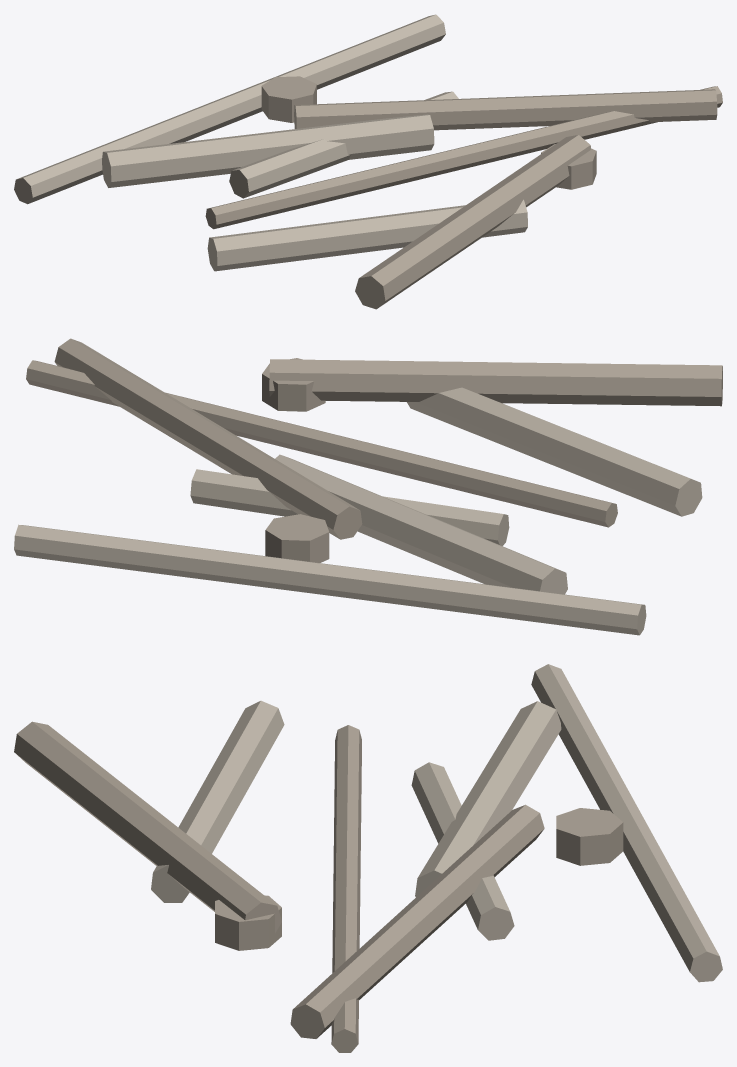
Rendered from dm_driftwood2.glb.
3 views of the same model, one above another, from view 1: azimuth 30°, elevation 25°; view 2: azimuth 150°, elevation 25°; view 3: azimuth 270°, elevation 25° (orthographic). The views are drawn at different scales.
Visible parts, largest first — view 1: dm_driftwood2; view 2: dm_driftwood2; view 3: dm_driftwood2.
Part boxes in pixels (x1,y1,x2,y2): dm_driftwood2: (14,14,722,309); dm_driftwood2: (14,338,722,635); dm_driftwood2: (14,664,722,1052).
Bounding box in the file's own units: 5.47 × 0.3903 × 4.43.
